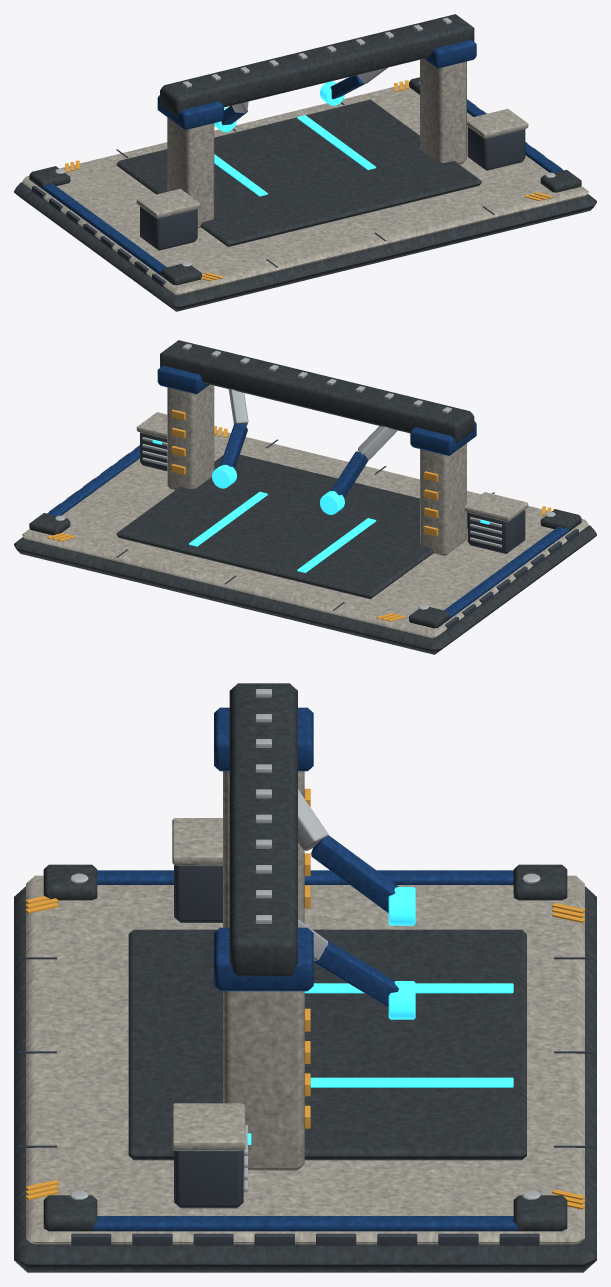
Rendered from solis_baie_de_reparation.gltf.
3 renders of one model, top to bottom at view 1: azimuth 30°, elevation 25°; view 2: azimuth 150°, elevation 25°; view 3: azimuth 270°, elevation 25°, orthographic. The views are drawn at different scales.
Visible parts, largest first — view 1: Building_Geometry, Arm_1.15_Geometry, Arm_-1.15_Geometry; view 2: Building_Geometry, Arm_-1.15_Geometry, Arm_1.15_Geometry; view 3: Building_Geometry, Arm_-1.15_Geometry, Arm_1.15_Geometry.
Boxes of the visible parts, x1,y1,x2,y2 form: Building_Geometry: (14, 14, 596, 311); Arm_1.15_Geometry: (320, 67, 388, 105); Arm_-1.15_Geometry: (214, 101, 248, 132); Building_Geometry: (14, 340, 596, 654); Arm_-1.15_Geometry: (320, 426, 397, 514); Arm_1.15_Geometry: (212, 389, 248, 488); Building_Geometry: (14, 683, 596, 1272); Arm_-1.15_Geometry: (298, 789, 415, 925); Arm_1.15_Geometry: (298, 919, 415, 1019).
Size of the model in its own units: 5.92 by 2.14 by 3.92.
7 materials, 3 textured.
